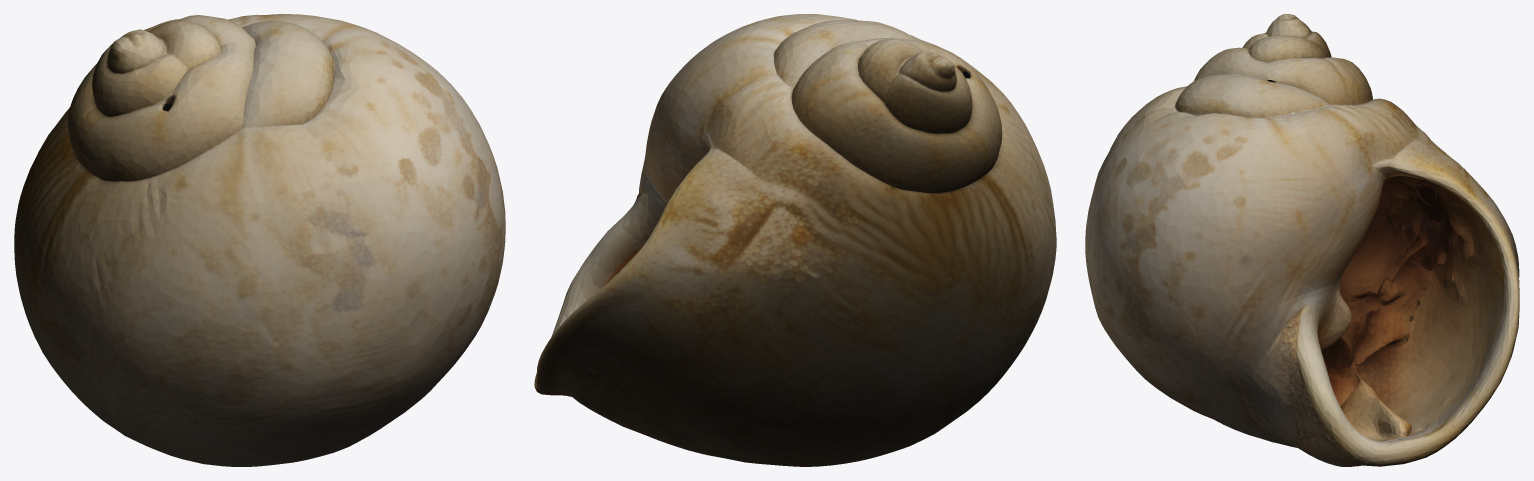
3 renders of one model, left to right at view 1: azimuth 30°, elevation 25°; view 2: azimuth 150°, elevation 25°; view 3: azimuth 270°, elevation 25°, orthographic. The views are drawn at different scales.
Parts seen in each view (by area): view 1: world; view 2: world; view 3: world.
Boxes of the visible parts, left/top/right/bottom form: world: left=14, top=14, right=505, bottom=466; world: left=534, top=14, right=1056, bottom=466; world: left=1085, top=14, right=1519, bottom=466.
Bounding box in the file's own units: 0.9953 × 0.9135 × 0.9989.
1 material, 1 textured.
